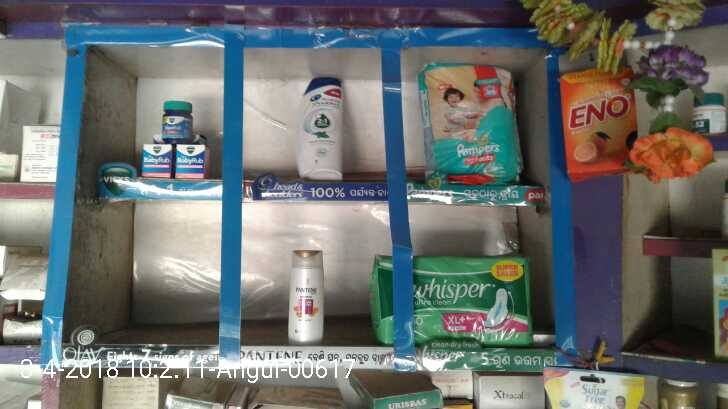vicks: (140, 144, 177, 180), (162, 99, 193, 141), (178, 143, 209, 179)
